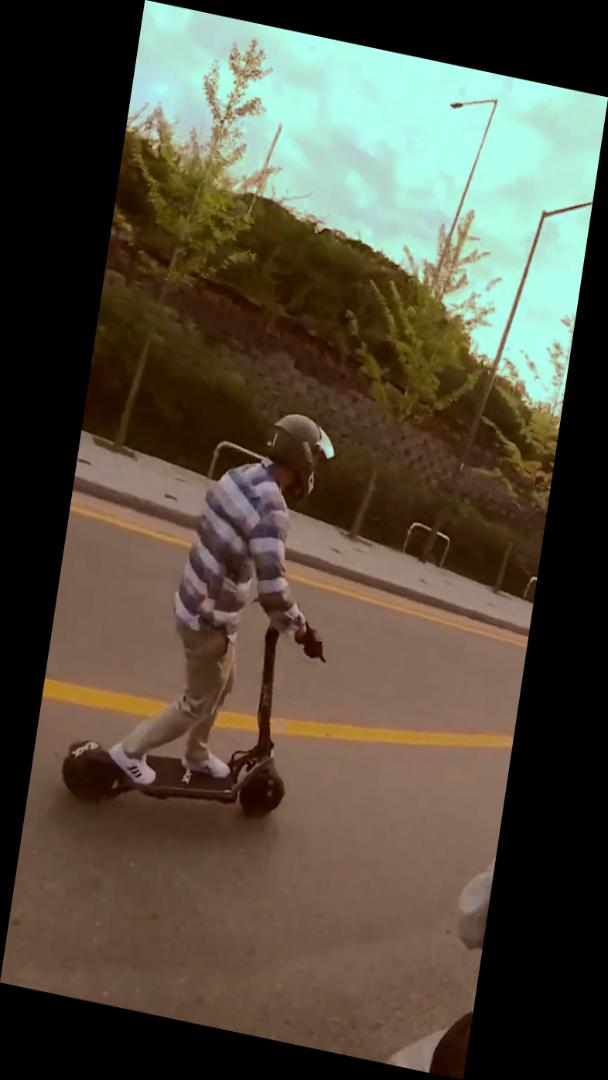helmet: (53, 370, 365, 853)
